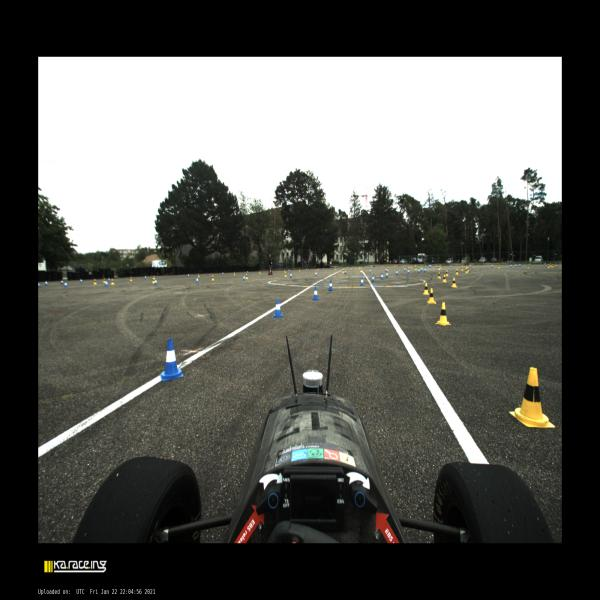blue_cone: (160, 338, 184, 381), (272, 298, 284, 318), (312, 286, 319, 300), (328, 280, 334, 291), (360, 277, 364, 286), (371, 275, 375, 282), (385, 272, 389, 278), (381, 273, 384, 280), (105, 280, 108, 287), (407, 268, 410, 274), (45, 280, 48, 286), (64, 282, 67, 288), (196, 277, 199, 283), (395, 270, 398, 275), (38, 282, 40, 288), (61, 279, 63, 285), (155, 279, 157, 285), (290, 272, 292, 278), (418, 268, 420, 273), (424, 267, 426, 272), (80, 278, 82, 283), (243, 275, 245, 280), (315, 271, 317, 276), (369, 268, 371, 273), (404, 267, 406, 271), (544, 262, 546, 266), (469, 264, 471, 268), (450, 264, 452, 268), (108, 278, 110, 282), (144, 276, 146, 280), (421, 267, 423, 271), (430, 264, 432, 268), (529, 263, 531, 266), (510, 264, 512, 267), (385, 268, 387, 271), (348, 266, 350, 269), (518, 264, 520, 266), (188, 273, 189, 277), (222, 272, 224, 274), (247, 270, 248, 274), (345, 270, 346, 274), (336, 267, 338, 269), (436, 264, 437, 268), (369, 266, 371, 268), (425, 264, 426, 268), (515, 264, 516, 267), (492, 264, 493, 267), (306, 268, 307, 271), (405, 264, 406, 267), (383, 265, 384, 268), (323, 268, 324, 270), (396, 265, 397, 267)
yellow_cone: (509, 366, 555, 427), (435, 302, 451, 325), (427, 288, 436, 304), (422, 282, 430, 294), (451, 278, 458, 287), (442, 274, 447, 283), (437, 272, 441, 279), (455, 269, 459, 275), (111, 279, 114, 285), (465, 268, 468, 273), (152, 277, 154, 284), (446, 270, 448, 276), (497, 264, 500, 268), (94, 279, 96, 285), (130, 276, 132, 282), (212, 275, 214, 281), (461, 266, 463, 271), (548, 263, 550, 268), (103, 278, 105, 283), (246, 274, 248, 279), (284, 272, 286, 277), (342, 268, 344, 273), (554, 262, 556, 266), (552, 264, 554, 268), (527, 264, 529, 268), (465, 264, 467, 268), (438, 266, 440, 270), (259, 270, 261, 274), (360, 268, 362, 272), (387, 267, 389, 271), (415, 266, 417, 270), (468, 266, 469, 272), (410, 265, 412, 268), (198, 274, 199, 278), (299, 268, 300, 272), (317, 268, 319, 270), (350, 267, 352, 269), (403, 264, 404, 268), (371, 266, 373, 268), (420, 266, 422, 268), (440, 265, 441, 268), (234, 272, 235, 275), (335, 267, 336, 270), (408, 265, 409, 268), (382, 265, 383, 268), (284, 270, 285, 272), (362, 266, 363, 268), (394, 265, 395, 267)
